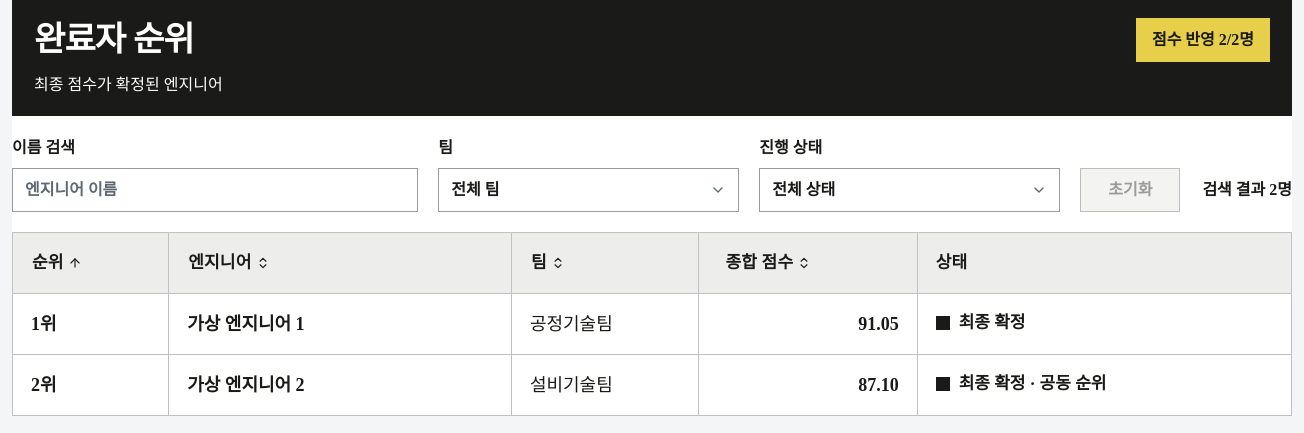
it: dashboard presentation › filters the completed ranking by engineer name
This screenshot has width=1304, height=433.
Type "엔지니어 2" into the search field labelled "이름 검색" at (215, 190), box [12, 168, 418, 212]
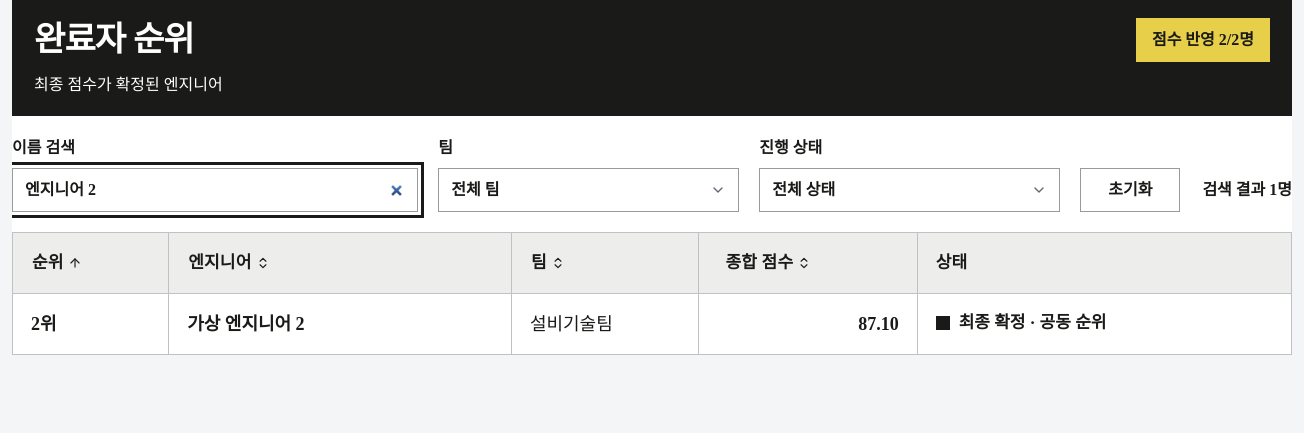
Now the link "가상 엔지니어 1" is gone
Now the number of links "가상 엔지니어 2" is 2
